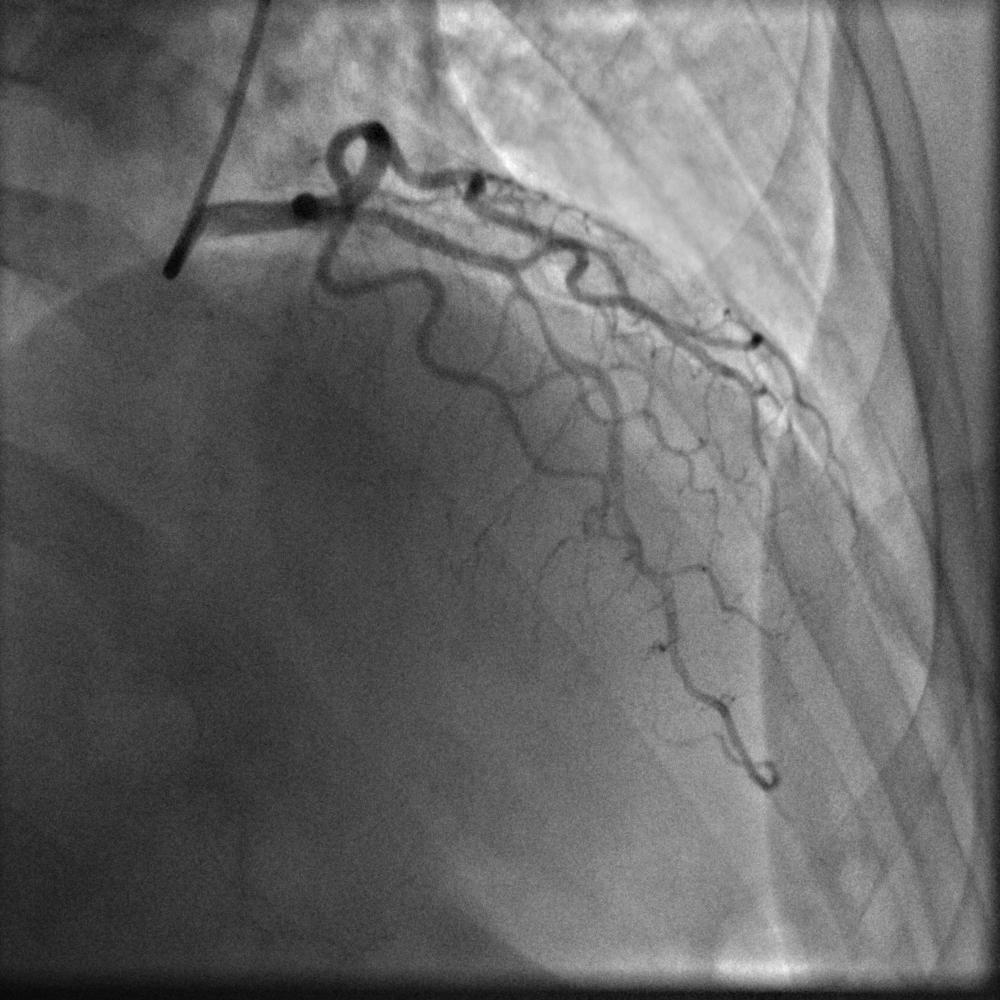Stenosis: (517, 281, 562, 349)
